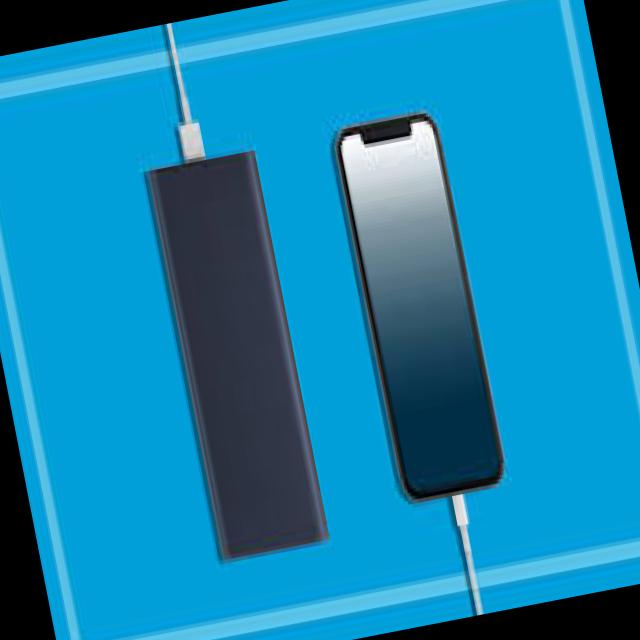power_bank: (146, 147, 330, 562)
